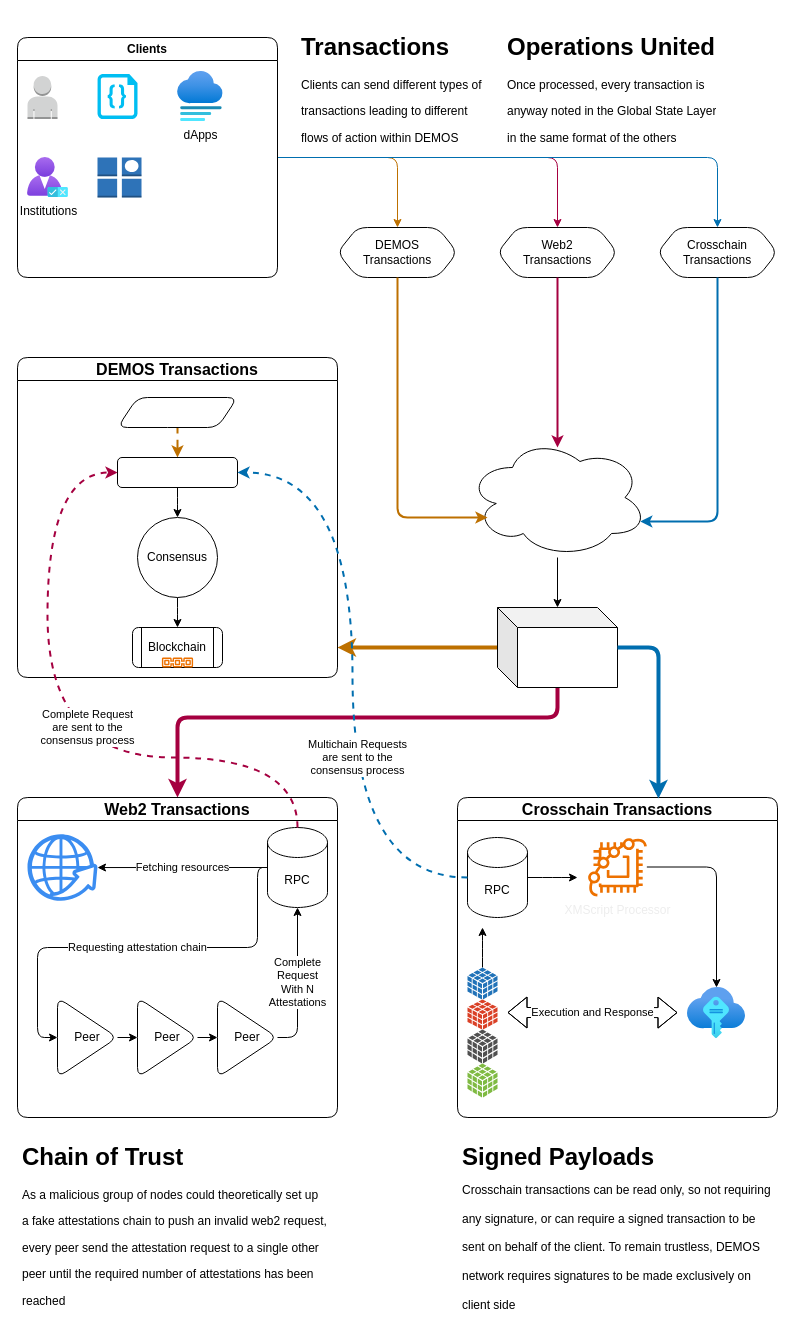
The diagram is 795 pixels wide and 1334 high, and some of its shapes have lost their labels. Each missing label, with the centre of its shape:
"DEMOS Network" belongs at (x=557, y=497).
"DEMOS Nodes" belongs at (x=557, y=647).
"Developers" belongs at (x=117, y=96).
"Mempool" belongs at (x=177, y=472).
"Services" belongs at (x=119, y=177).
"Signed Payloads Verification / Request" belongs at (x=716, y=1012).
"Users" belongs at (x=42, y=97).
"Validation" belongs at (x=177, y=412).
"Web2" belongs at (x=62, y=867).
